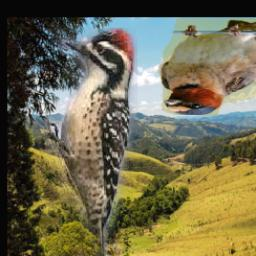Swallow: (157, 19, 256, 116)
Woodpecker: (45, 28, 137, 256)
